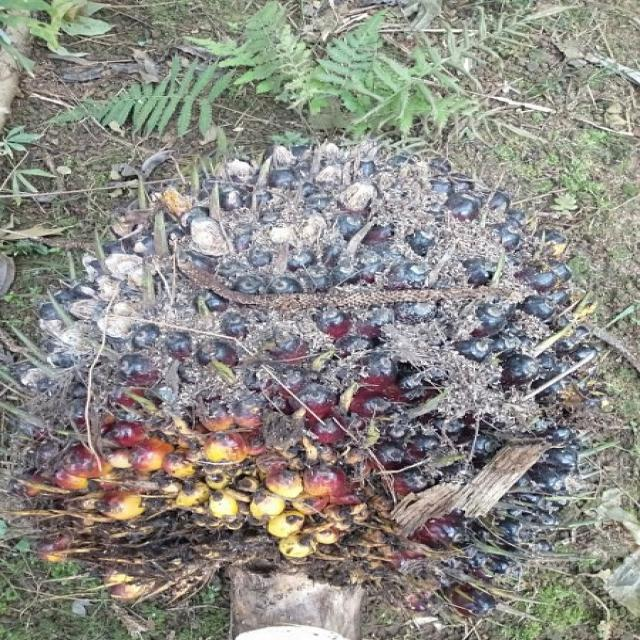fraksi 00: (0, 108, 640, 607)
